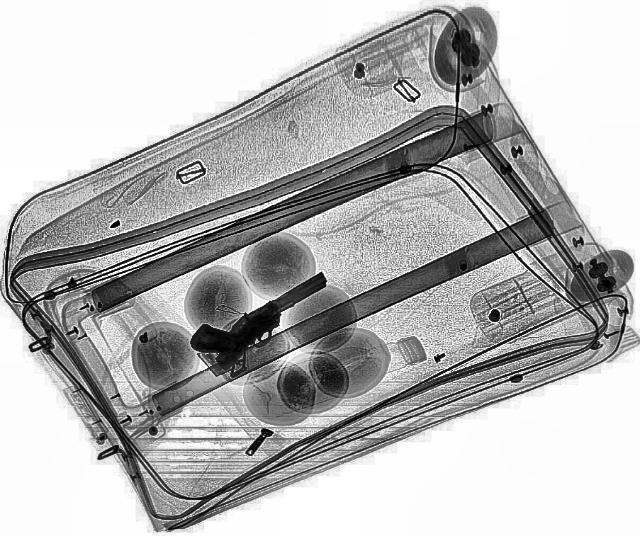Gun: (194, 269, 356, 379), (182, 286, 290, 370)
